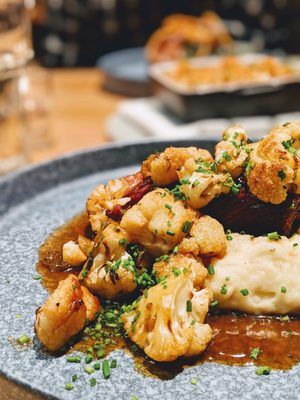sandwich: (152, 53, 299, 91)
